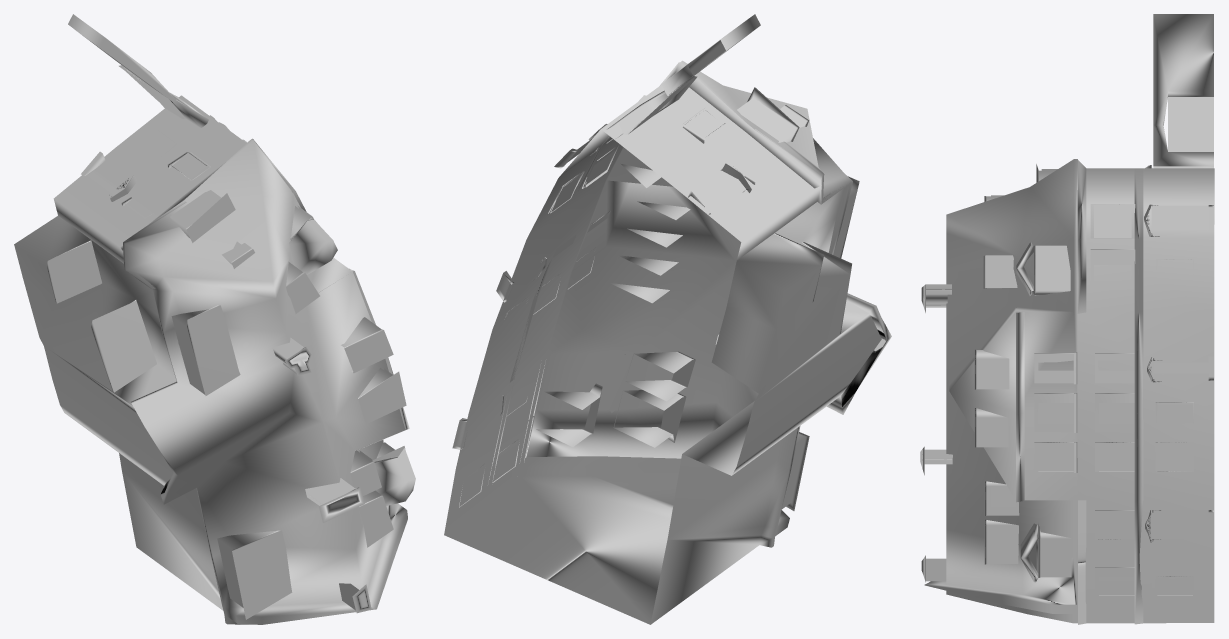
Rendered from Nunne_7-origo.obj.
The picture shows the model from 3 angles, left to right: view 1: azimuth 30°, elevation 25°; view 2: azimuth 150°, elevation 25°; view 3: azimuth 270°, elevation 25°; orthographic projection. The views are drawn at different scales.
Visible parts, largest first — view 1: (null); view 2: (null); view 3: (null).
Boxes of the visible parts, x1,y1,x2,y2 form: (null): [14, 14, 415, 624]; (null): [444, 14, 891, 624]; (null): [920, 14, 1214, 624].
Size of the model in its own units: 18.38 by 30.5 by 15.46.
